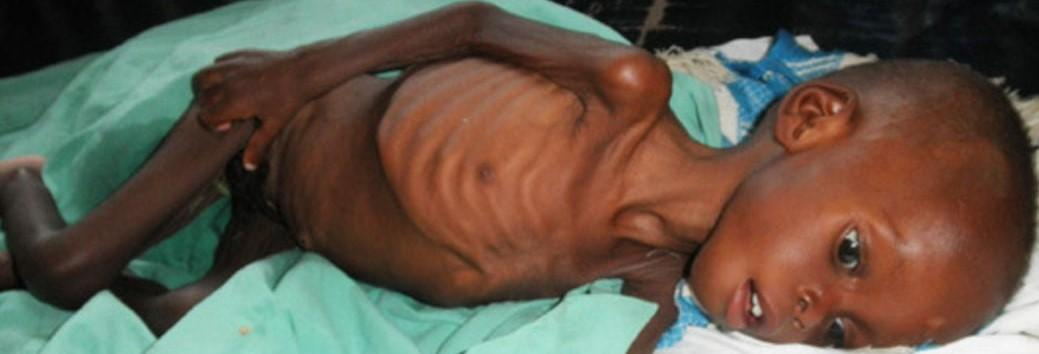Stunting: (719, 25, 1031, 354)
